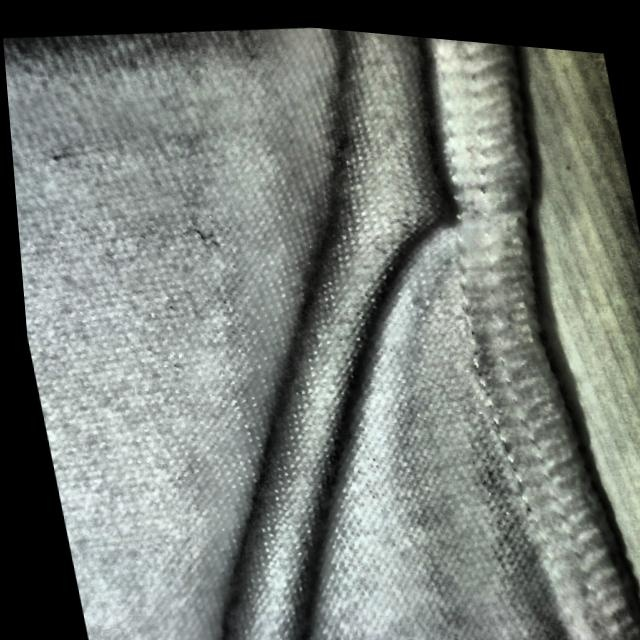seam: (306, 64, 573, 324)
